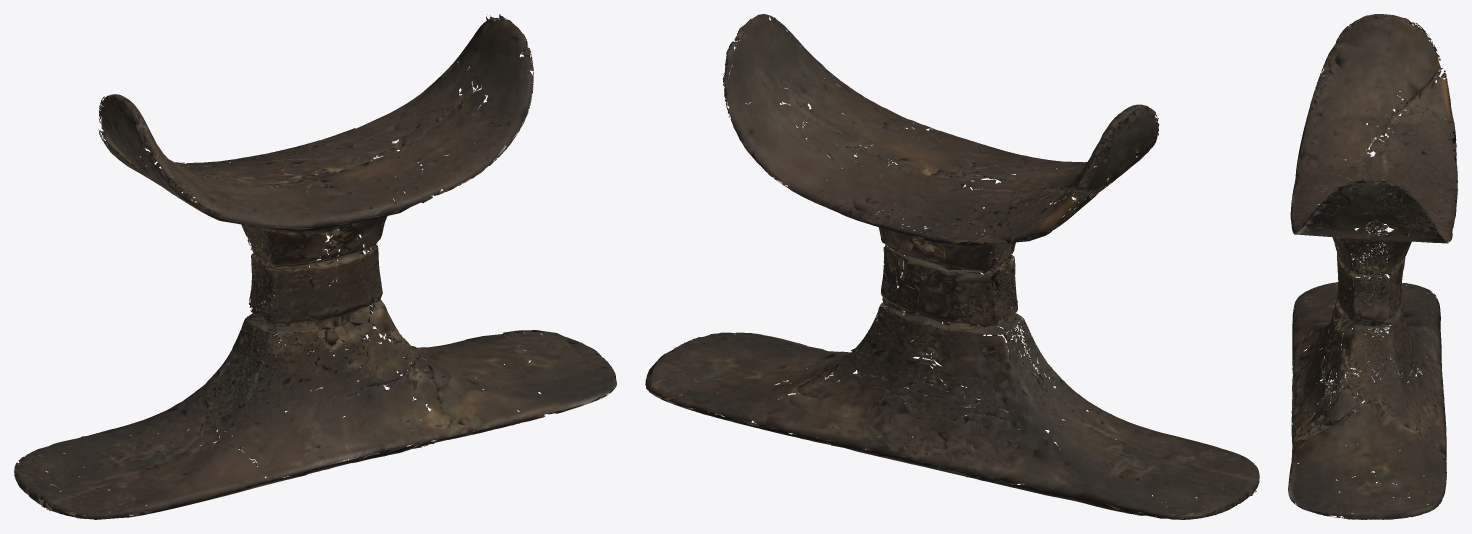
Rendered from harvard-headrest.glb.
The picture shows the model from 3 angles, left to right: view 1: azimuth 30°, elevation 25°; view 2: azimuth 150°, elevation 25°; view 3: azimuth 270°, elevation 25°; orthographic projection. The views are drawn at different scales.
Parts seen in each view (by area): view 1: Object_27, Object_21, Object_26, Object_35, Object_18, Object_22, Object_47, Object_44, Object_43, Object_25, Object_34, Object_48 (+26 smaller); view 2: Object_25, Object_24, Object_26, Object_19, Object_33, Object_32, Object_22, Object_47, Object_23, Object_18, Object_40, Object_49 (+26 smaller); view 3: Object_34, Object_41, Object_26, Object_42, Object_40, Object_48, Object_20, Object_43, Object_21, Object_25, Object_44, Object_53 (+36 smaller).
Part boxes in pixels (<box>): Object_27: <box>65,343,411,481</box>; Object_21: <box>136,160,514,511</box>; Object_26: <box>242,54,616,447</box>; Object_35: <box>21,247,382,503</box>; Object_18: <box>15,111,456,477</box>; Object_22: <box>81,129,441,488</box>; Object_47: <box>106,94,543,460</box>; Object_44: <box>169,113,496,453</box>; Object_43: <box>127,151,595,377</box>; Object_25: <box>311,19,521,378</box>; Object_34: <box>15,103,179,517</box>; Object_48: <box>186,66,604,421</box>; Object_25: <box>727,20,874,449</box>; Object_24: <box>781,229,1171,516</box>; Object_26: <box>677,82,841,356</box>; Object_19: <box>816,114,1199,511</box>; Object_33: <box>856,104,1155,413</box>; Object_32: <box>854,306,1050,408</box>; Object_22: <box>773,120,1191,482</box>; Object_47: <box>653,104,1155,469</box>; Object_23: <box>866,403,1028,477</box>; Object_18: <box>803,108,1206,516</box>; Object_40: <box>743,19,1090,472</box>; Object_49: <box>689,143,1243,515</box>; Object_34: <box>1294,21,1440,317</box>; Object_41: <box>1298,121,1447,490</box>; Object_26: <box>1288,210,1452,518</box>; Object_42: <box>1297,79,1456,444</box>; Object_40: <box>1293,183,1419,445</box>; Object_48: <box>1300,136,1442,519</box>; Object_20: <box>1319,150,1457,480</box>; Object_43: <box>1290,83,1452,513</box>; Object_21: <box>1291,182,1354,463</box>; Object_25: <box>1314,181,1450,460</box>; Object_44: <box>1298,71,1433,474</box>; Object_53: <box>1288,76,1434,500</box>.
Size of the model in its own units: 276 by 174 by 83.65.
Materials: 1 (1 with a texture image).
